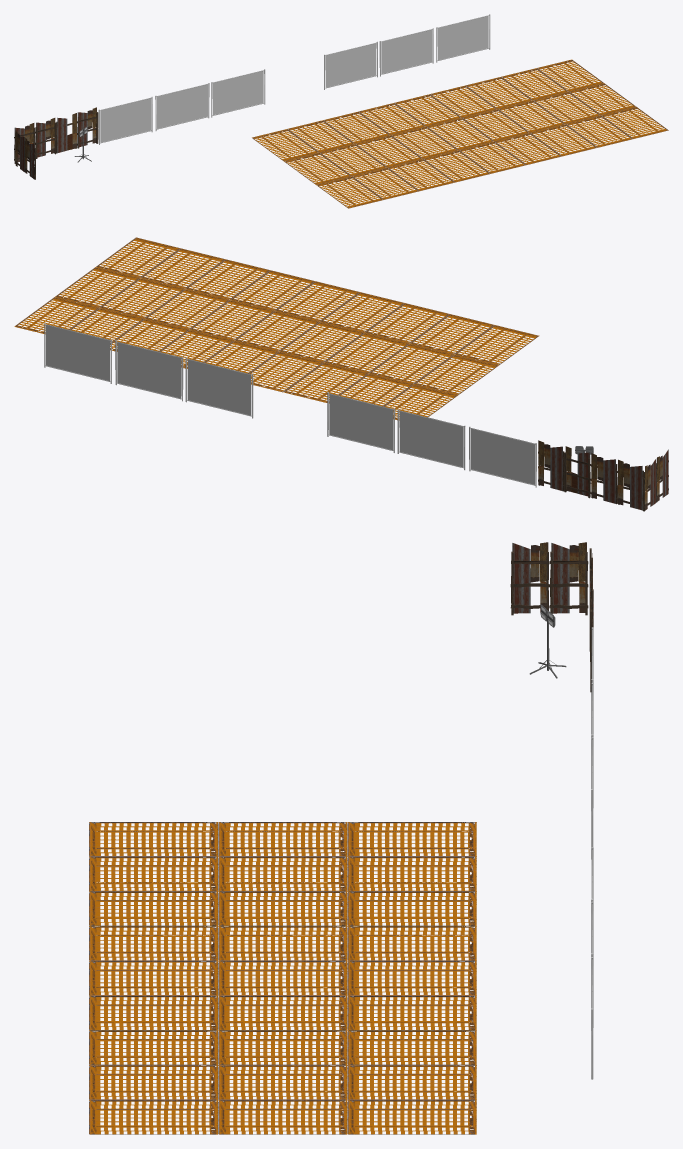
Rendered from Building05.fbx.
3 renders of one model, top to bottom at view 1: azimuth 30°, elevation 25°; view 2: azimuth 150°, elevation 25°; view 3: azimuth 270°, elevation 25°, orthographic. The views are drawn at different scales.
Visible parts, largest first — view 1: MeshBaker__7__mesh_mesh; view 2: MeshBaker__7__mesh_mesh; view 3: MeshBaker__7__mesh_mesh.
Boxes of the visible parts, x1,y1,x2,y2 form: MeshBaker__7__mesh_mesh: (14,14,668,208); MeshBaker__7__mesh_mesh: (14,237,668,511); MeshBaker__7__mesh_mesh: (89,542,593,1134).
Bounding box in the file's own units: 4208 × 304 × 1738.
